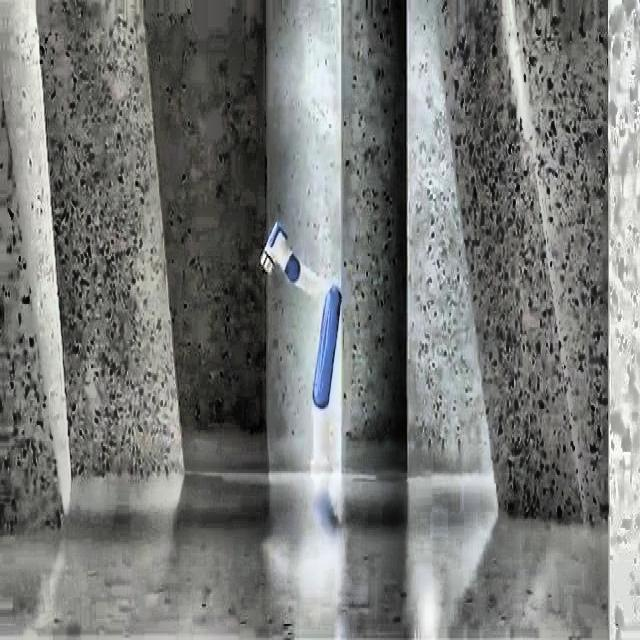robot: (258, 219, 343, 473)
